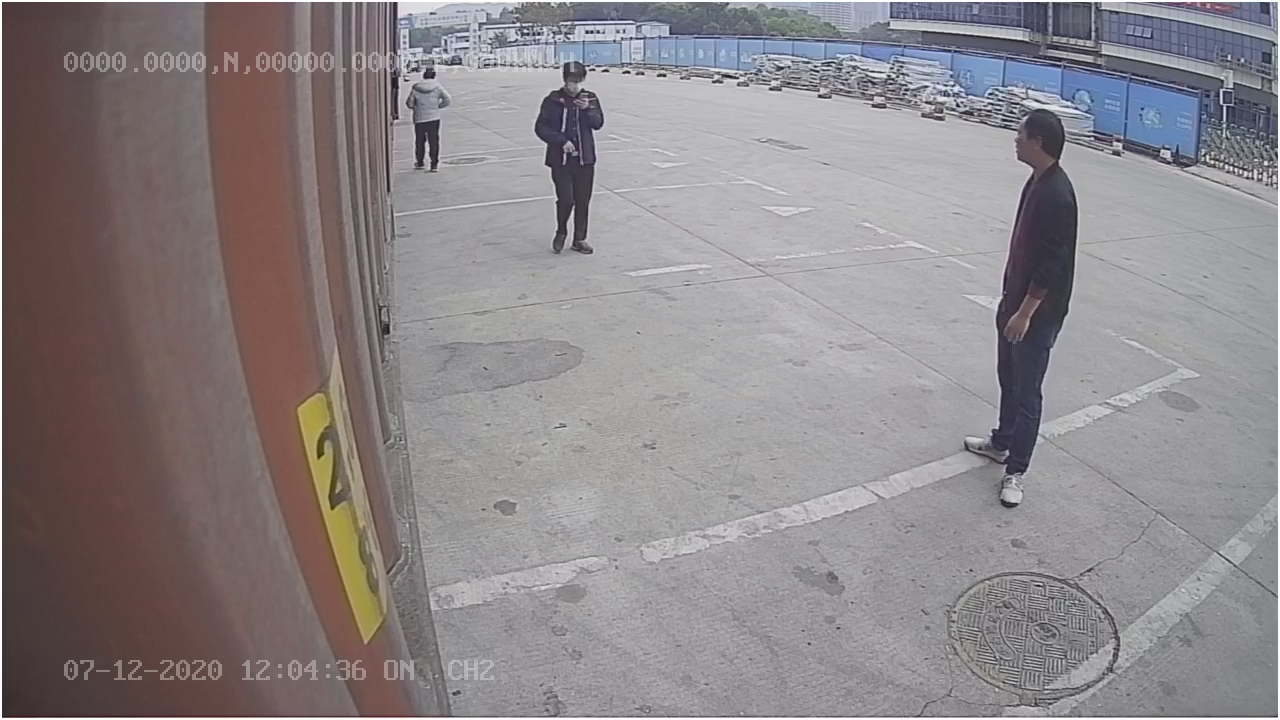person: (952, 109, 1083, 511)
